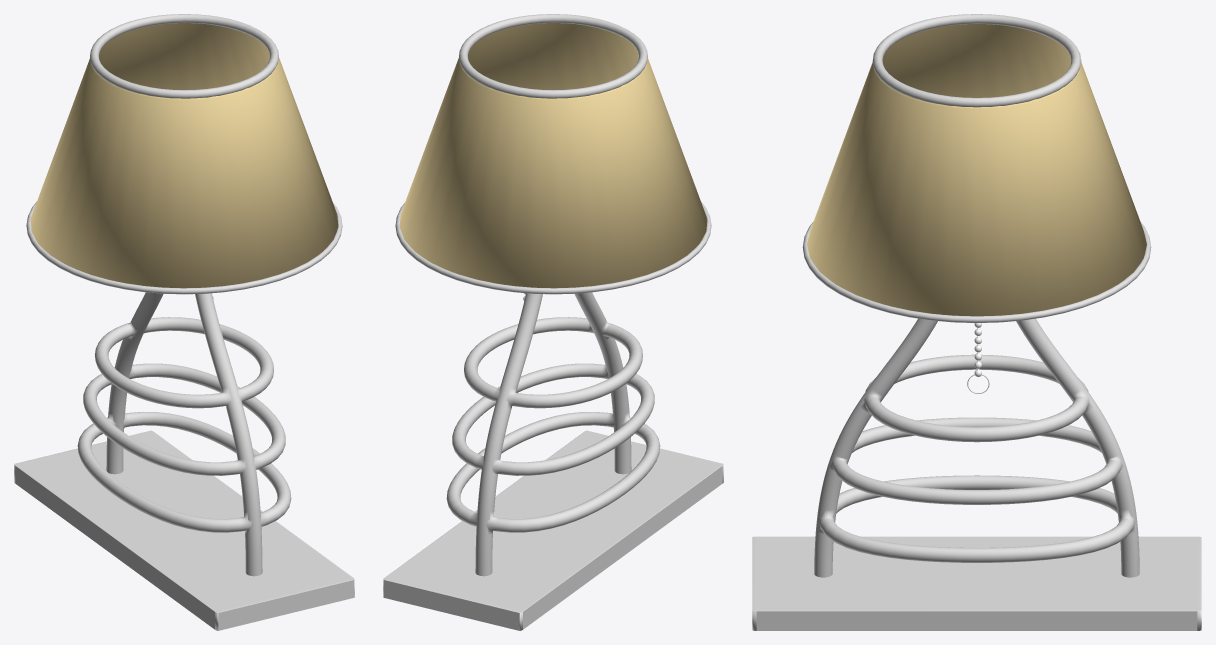
The model's file is morden_lamp.glb.
The picture shows the model from 3 angles, left to right: view 1: azimuth 30°, elevation 25°; view 2: azimuth 150°, elevation 25°; view 3: azimuth 270°, elevation 25°; orthographic projection. The views are drawn at different scales.
Visible parts, largest first — view 1: Cilindro, Cubo, Percorso Nurbs, Cerchio Bezier.001, Cerchio Bezier; view 2: Cilindro, Cubo, Percorso Nurbs, Cerchio Bezier.001, Cerchio Bezier; view 3: Cilindro, Cubo, Percorso Nurbs, Cerchio Bezier.001, Cerchio Bezier.
Part boxes in pixels (x1,y1,x2,y2): Cilindro: (30,23,338,288); Cubo: (14,430,354,630); Percorso Nurbs: (77,292,291,576); Cerchio Bezier.001: (90,14,278,98); Cerchio Bezier: (26,201,342,294); Cilindro: (399,23,707,288); Cubo: (383,430,723,630); Percorso Nurbs: (446,292,660,576); Cerchio Bezier.001: (459,14,647,98); Cerchio Bezier: (395,201,711,294); Cilindro: (807,24,1146,316); Cubo: (752,536,1201,630); Percorso Nurbs: (814,318,1139,577); Cerchio Bezier.001: (872,14,1081,107); Cerchio Bezier: (802,222,1151,322).
Size of the model in its own units: 0.5813 by 0.9892 by 0.7497.
